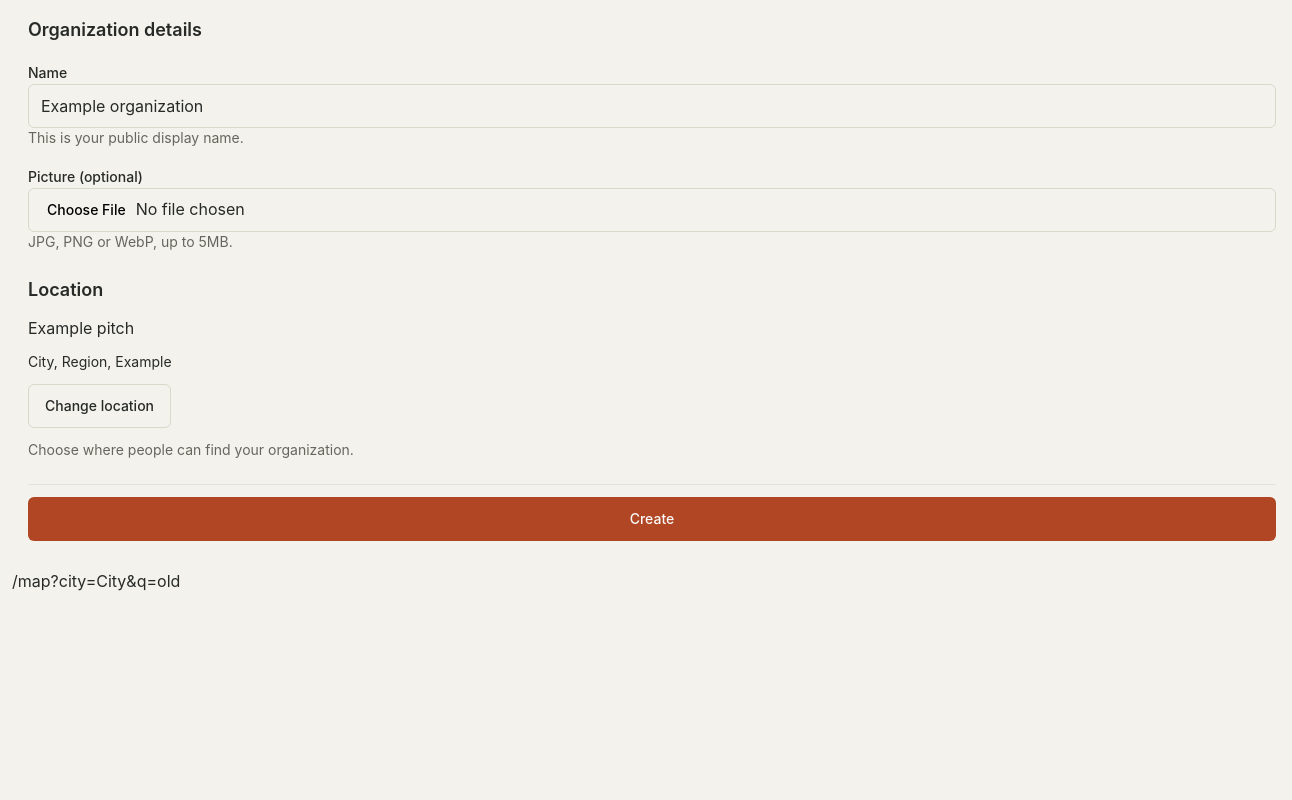
Test case: rejects bad.svg and allows correcting the file without losing the location
The width and height of the screenshot is (1292, 800).
Earlier steps of the test are not shown.
Later steps or results of the test are not shown.
What coordinates should you click on to do the following:
click the button "Create"
I would click on:
 (652, 519)
Its box is [28,497,1276,541].
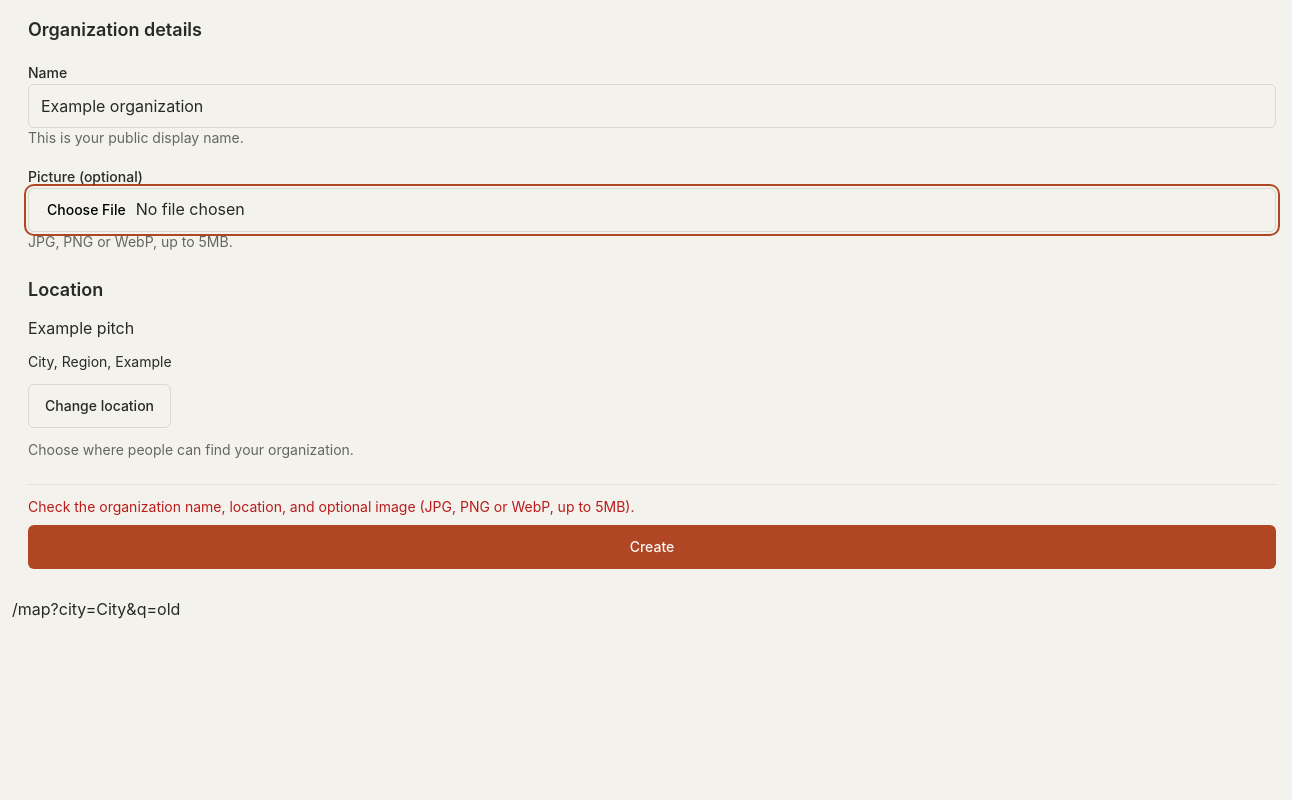
Expected: the message is shown, [28,498,634,515]
